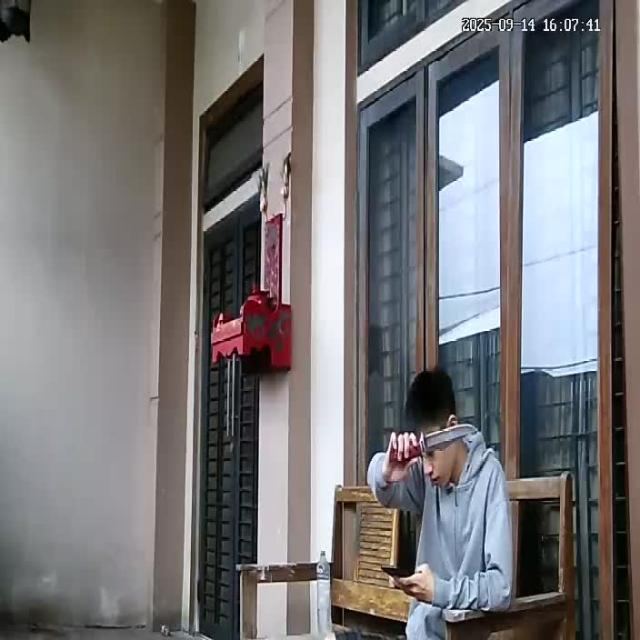senjata_tajam: (416, 421, 482, 461)
